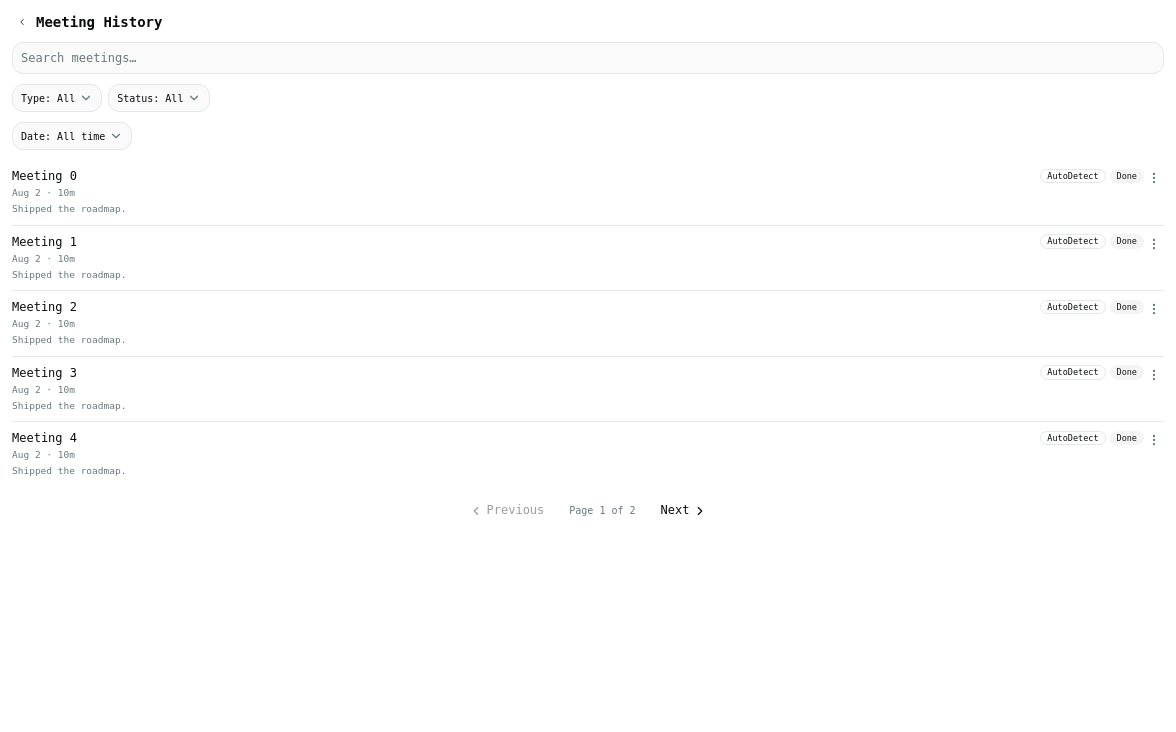
Test: MeetingHistory › with several meetings › narrows results by title search and resets to page 1
Expected: the text "Meeting 0" is shown, [12,168,77,184]
Step 1. Type "Meeting 6" into the field with placeholder "Search meetings…" → (588, 58), box [12,42,1164,74]
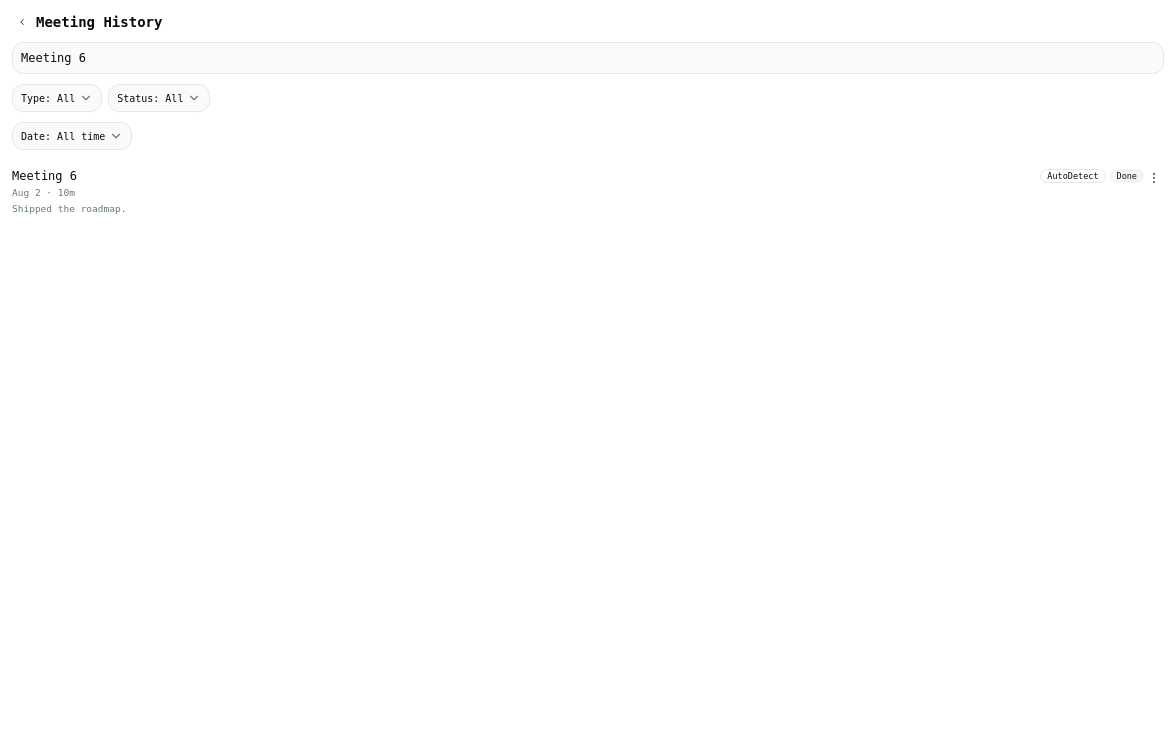
Expected: the text "Meeting 6" is shown, [12,168,77,184]
Expected: the text "Meeting 0" is gone
